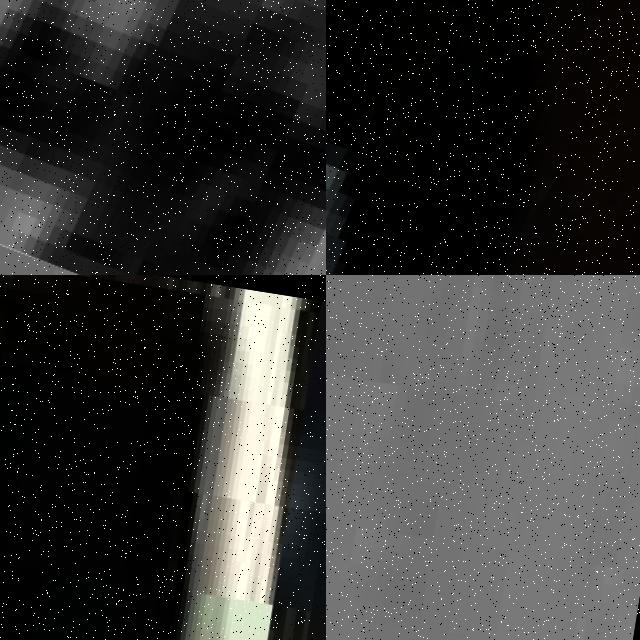0: (0, 0, 326, 275)
drone: (326, 0, 640, 275)
